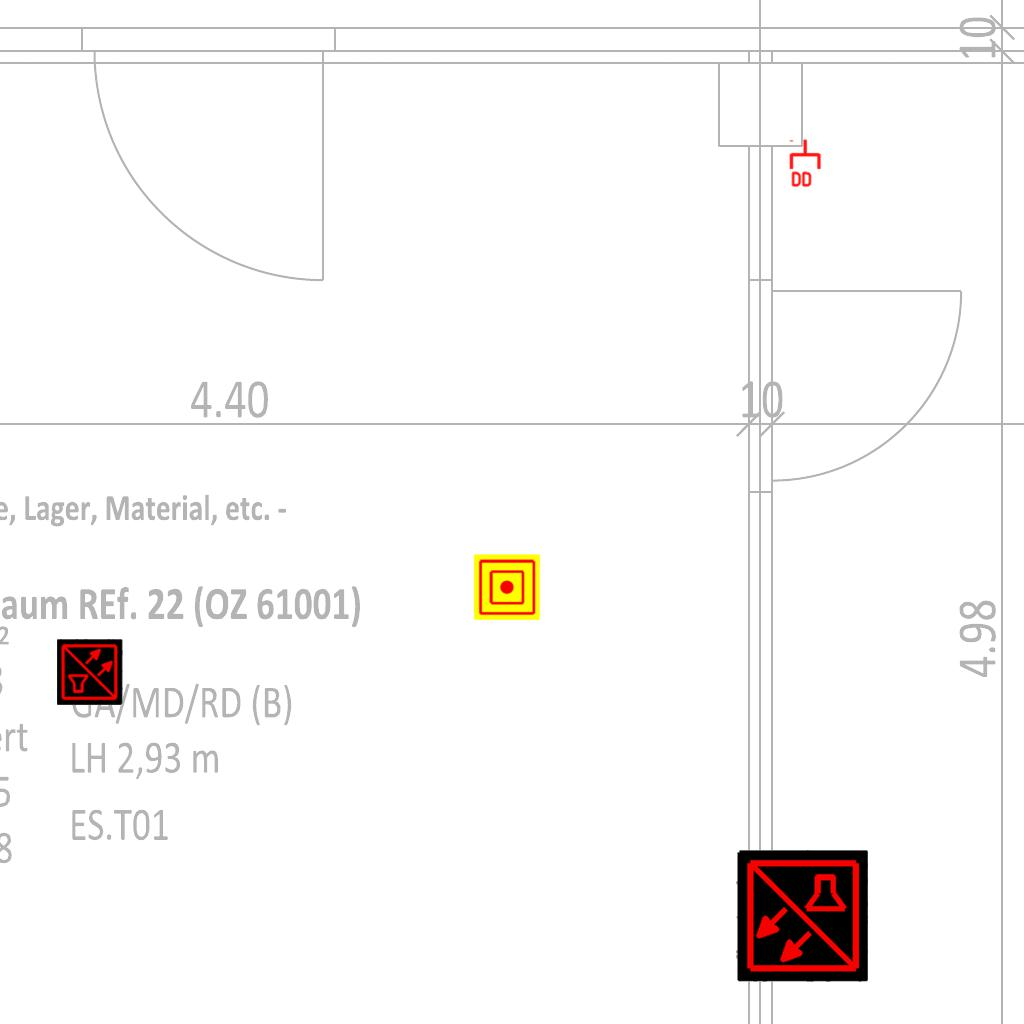Datenanschluss_zweifach: (789, 138, 823, 189)
NAM-Nichtautomatischer_Melder: (474, 554, 540, 620)
OKW_Multisensormelder_(Kombination_optischer_Rauch-Kahlenmonoxid_Waerme-Melder): (736, 850, 868, 982), (57, 639, 123, 705)
